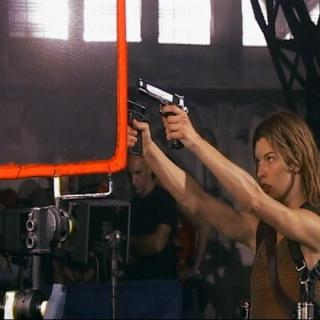gun: (91, 78, 146, 152), (134, 72, 192, 125)
